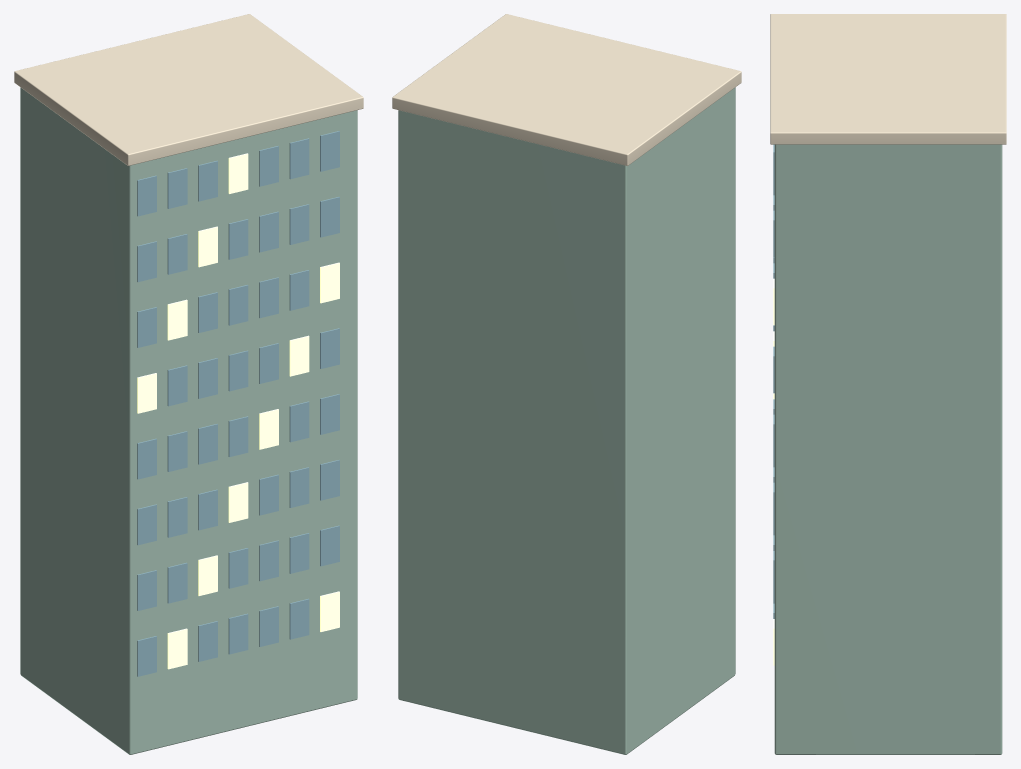
The model's file is tower_c.glb.
3 renders of one model, left to right at view 1: azimuth 30°, elevation 25°; view 2: azimuth 150°, elevation 25°; view 3: azimuth 270°, elevation 25°, orthographic. The views are drawn at different scales.
Parts seen in each view (by area): view 1: Body, Crown, W1_1, W1_5, W2_1, W4_1, W2_5, W3_1, W3_5, W4_5, W5_1, W5_3 (+46 smaller); view 2: Body, Crown; view 3: Body, Crown.
Boxes of the visible parts, x1,y1,x2,y2 form: Body: (20,87,357,754); Crown: (14,14,363,165); W1_1: (167,628,187,669); W1_5: (289,598,309,639); W2_1: (167,562,187,603); W4_1: (167,431,187,471); W2_5: (289,533,309,573); W3_1: (167,497,187,537); W3_5: (289,467,309,507); W4_5: (289,401,309,442); W5_1: (167,365,187,406); W5_3: (228,350,248,391); Body: (398,87,735,754); Crown: (392,14,741,165); Body: (774,144,1002,754); Crown: (770,14,1006,144).
Bounding box in the file's own units: 12.4 × 30.3 × 10.4.
